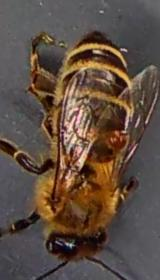varroa_mite: (101, 126, 132, 152)
